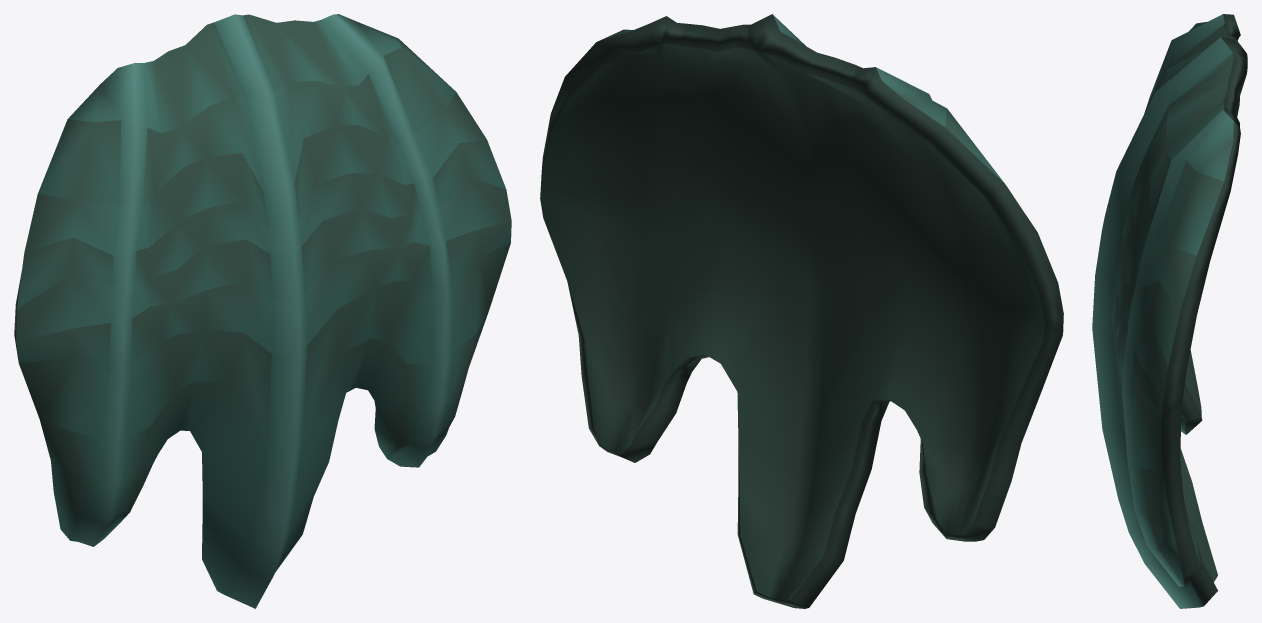
The picture shows the model from 3 angles, left to right: view 1: azimuth 30°, elevation 25°; view 2: azimuth 150°, elevation 25°; view 3: azimuth 270°, elevation 25°; orthographic projection. The views are drawn at different scales.
Visible parts, largest first — view 1: alt2.228; view 2: alt2.228; view 3: alt2.228.
Part boxes in pixels (x1,y1,x2,y2): alt2.228: (14,14,511,608); alt2.228: (540,14,1063,608); alt2.228: (1092,14,1247,608).
Bounding box in the file's own units: 0.4474 × 0.5 × 0.1232.
